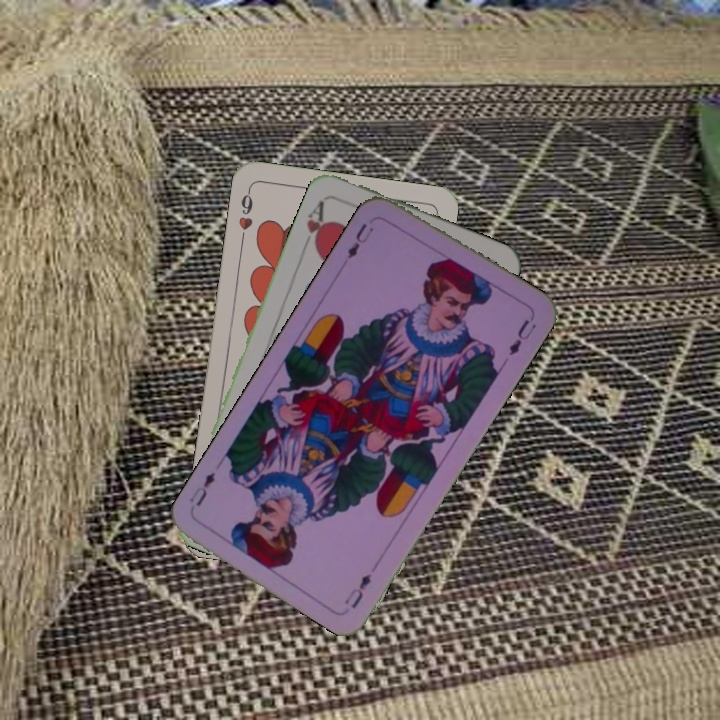EU: (340, 569, 375, 612), (343, 218, 376, 262)
H9: (234, 185, 256, 244)
HA: (299, 196, 330, 253)
